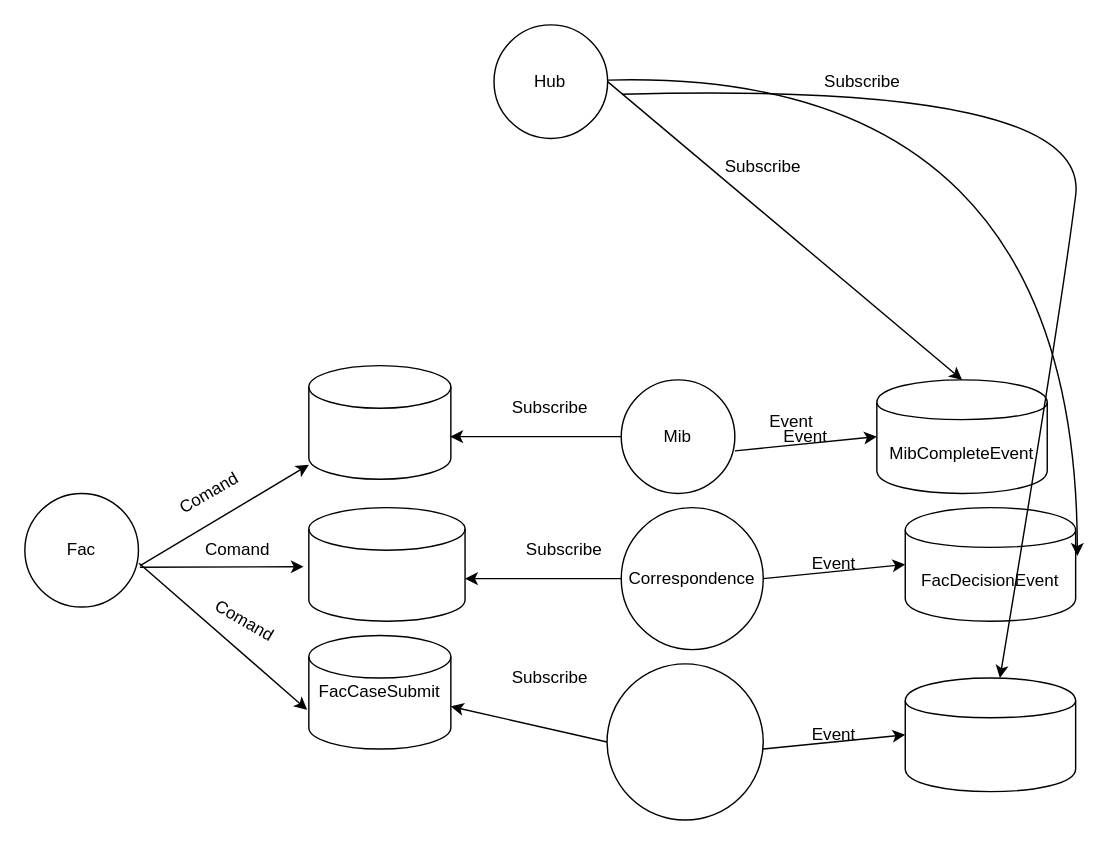
The diagram is 1108 pixels wide and 845 high, and some of its shapes have lost their labels. Each missing label, with the box of its shape:
FacCaseEvent: (904, 677, 1076, 792)
FacCaseProcessor: (606, 662, 763, 820)
FacDecisionCommand: (307, 506, 465, 621)
SubMibCommand: (307, 364, 451, 479)
